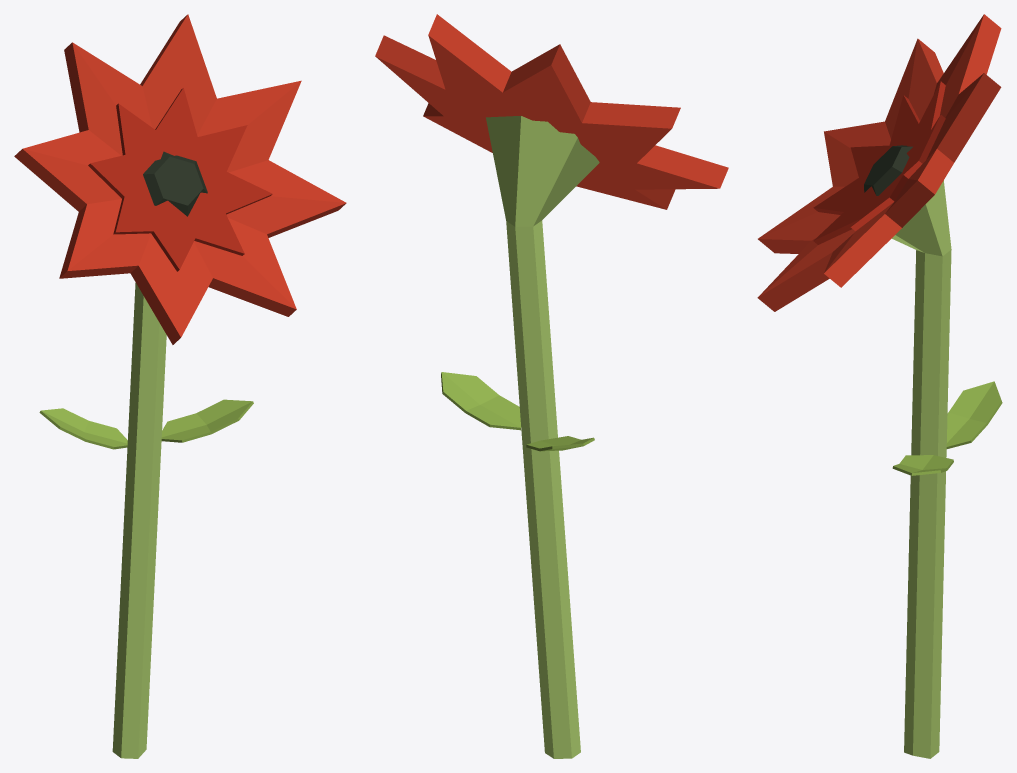
File: Flower_A.fbx
3 renders of one model, left to right at view 1: azimuth 30°, elevation 25°; view 2: azimuth 150°, elevation 25°; view 3: azimuth 270°, elevation 25°, orthographic. The views are drawn at different scales.
Visible parts, largest first — view 1: Flower_A; view 2: Flower_A; view 3: Flower_A.
Boxes of the visible parts, x1,y1,x2,y2 form: Flower_A: (14, 14, 346, 758); Flower_A: (375, 14, 728, 758); Flower_A: (757, 14, 1002, 758).
Size of the model in its own units: 8.15 by 19.38 by 5.94.
